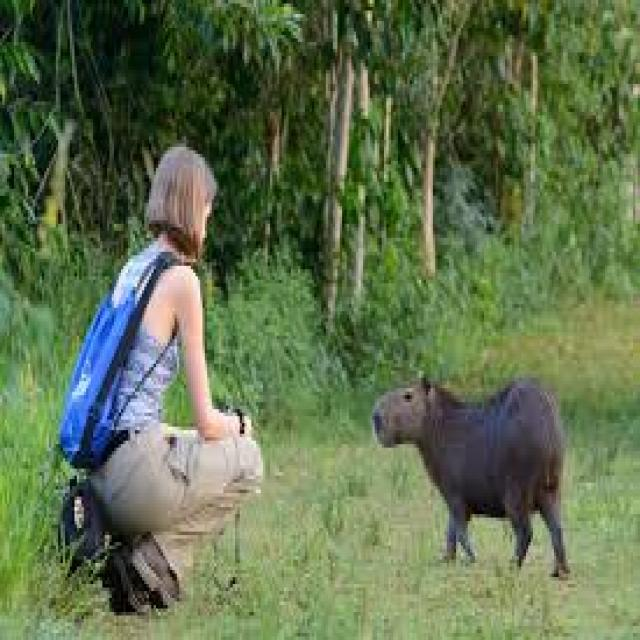capy: (372, 369, 572, 582)
